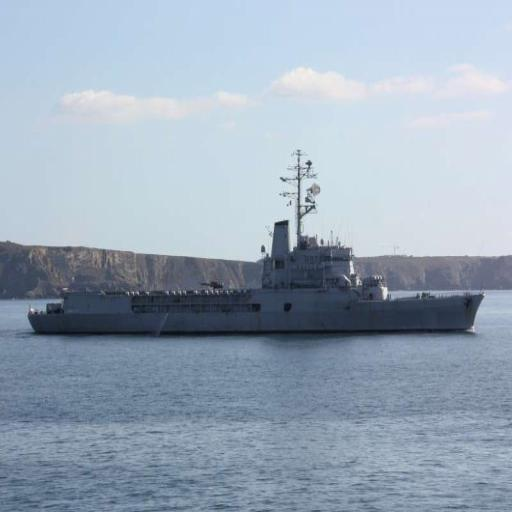Portanaves: (22, 141, 491, 340)
